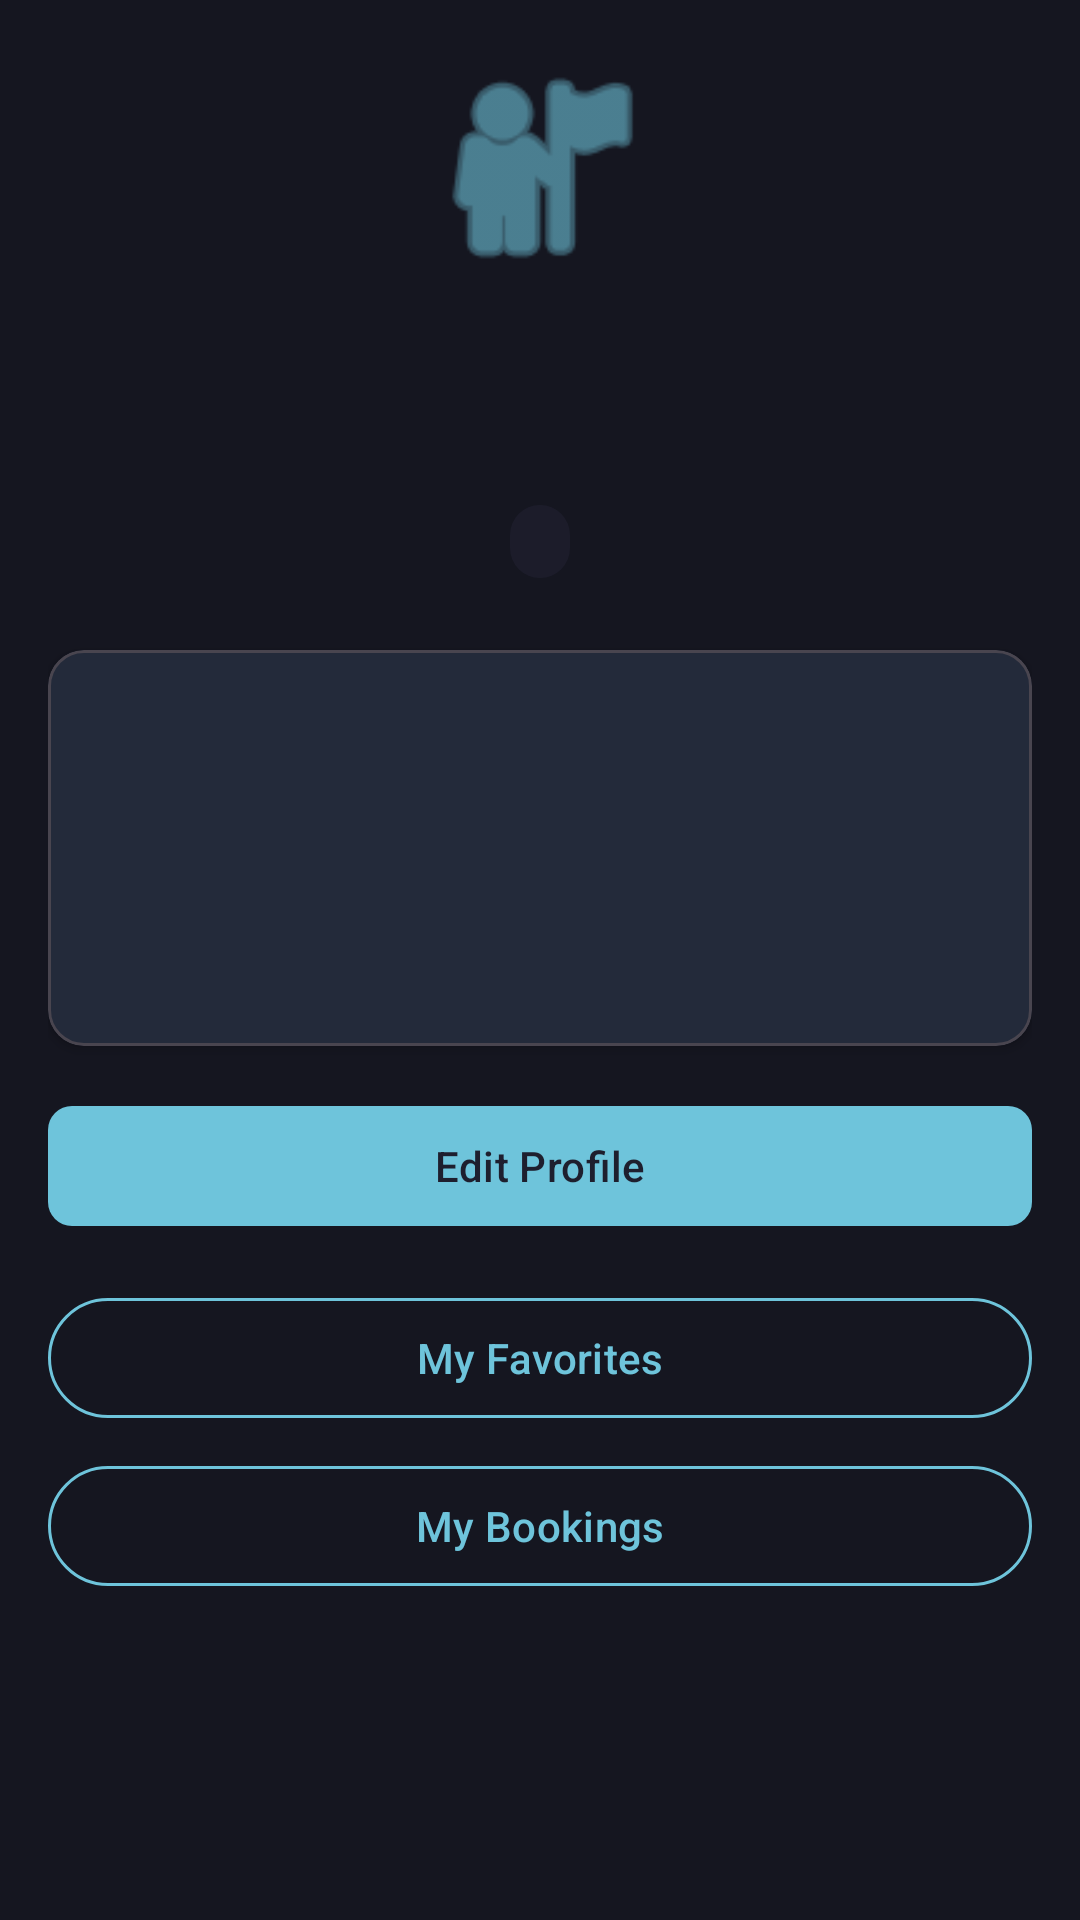

Icons on this 1080px x 1920px Android screen, each with the point to tap as (x,y):
Profile: (542,168)
